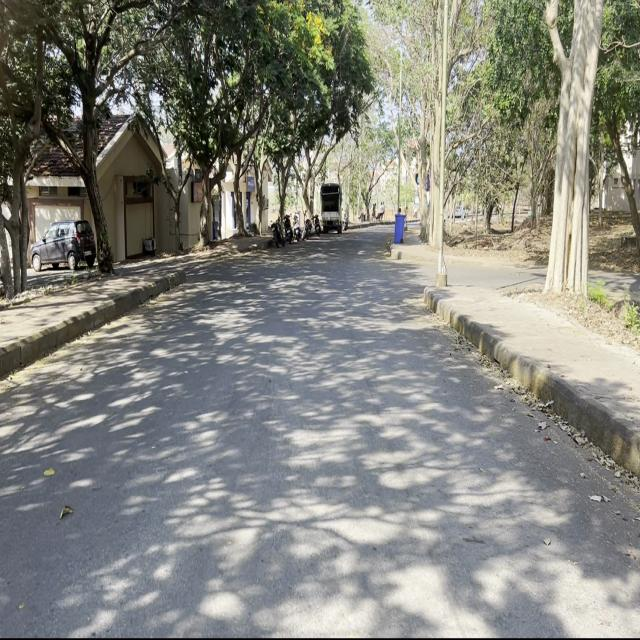Object: (314, 176, 346, 240)
Road: (2, 235, 636, 632)
